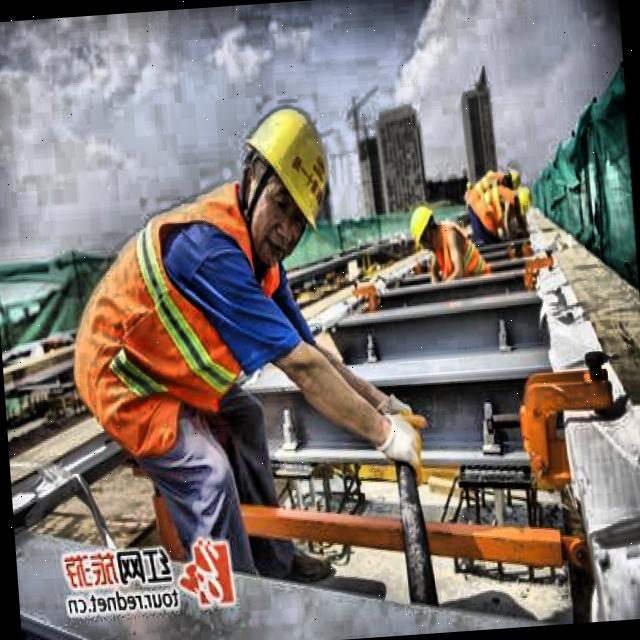helmet: (223, 90, 349, 268), (405, 198, 441, 254), (507, 180, 537, 218)
